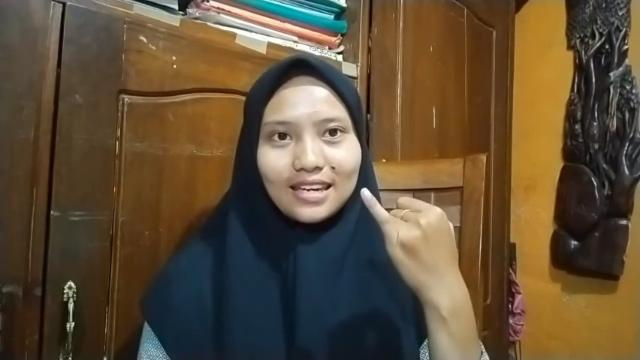J: (354, 183, 464, 307)
